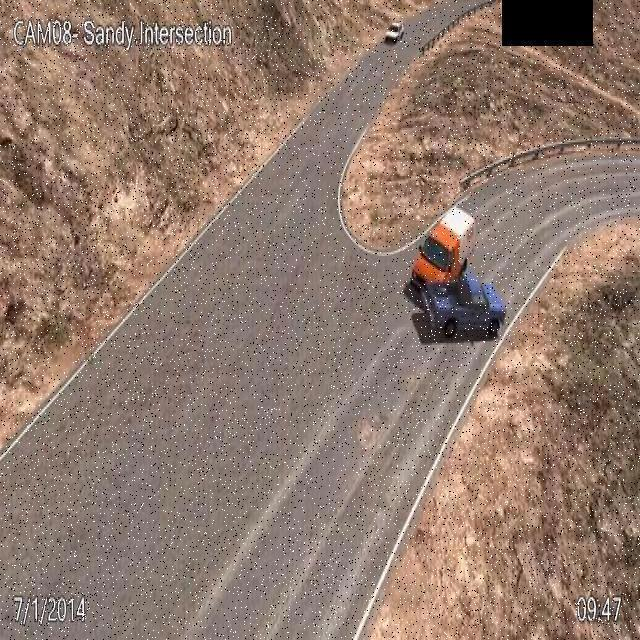multiple_accident: (376, 183, 533, 368)
